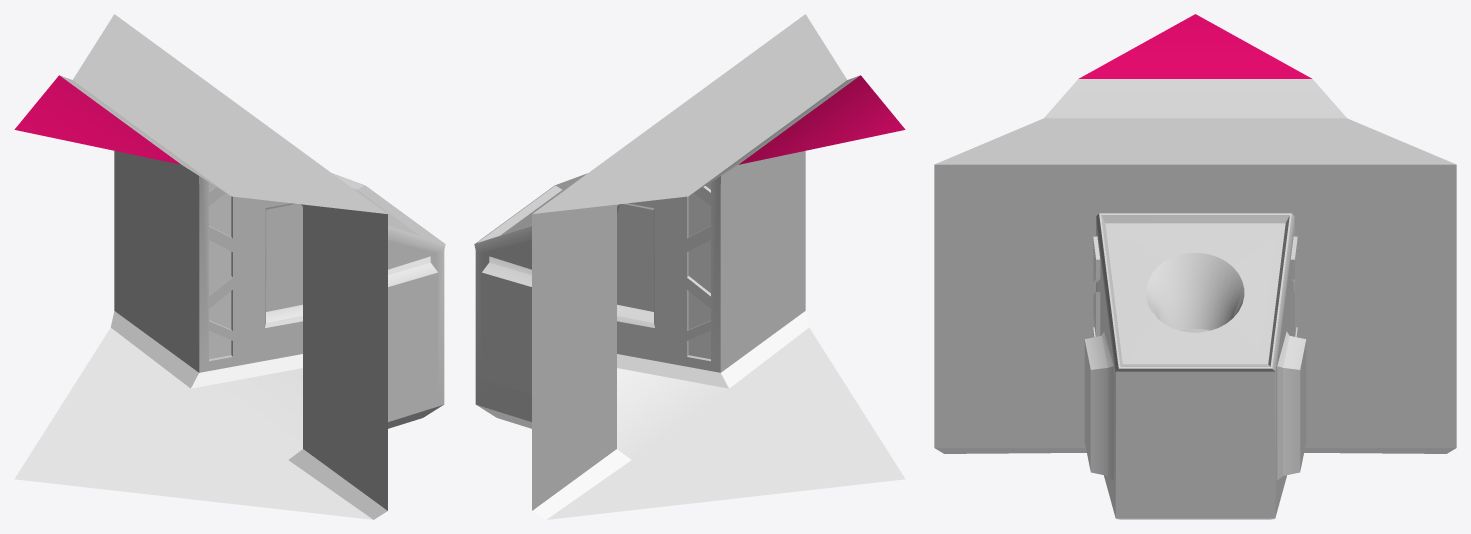
The model's file is cave_room_segment_14.glb.
3 renders of one model, left to right at view 1: azimuth 30°, elevation 25°; view 2: azimuth 150°, elevation 25°; view 3: azimuth 270°, elevation 25°, orthographic. The views are drawn at different scales.
Parts seen in each view (by area): view 1: cabin; view 2: cabin; view 3: cabin.
Boxes of the visible parts, box(x1,y1,x2,y2) form: cabin: box(14, 14, 445, 519); cabin: box(474, 14, 905, 519); cabin: box(934, 14, 1456, 519).
Size of the model in its own units: 18.2 by 15.54 by 22.04.
